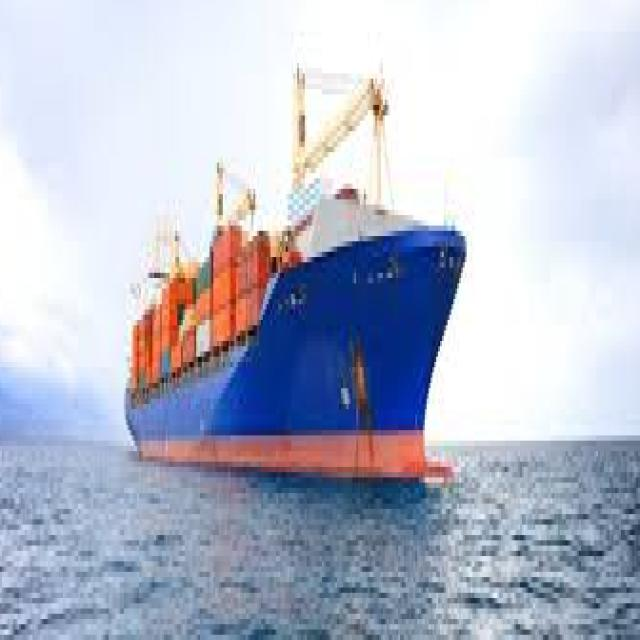cargoship: (119, 66, 466, 482)
